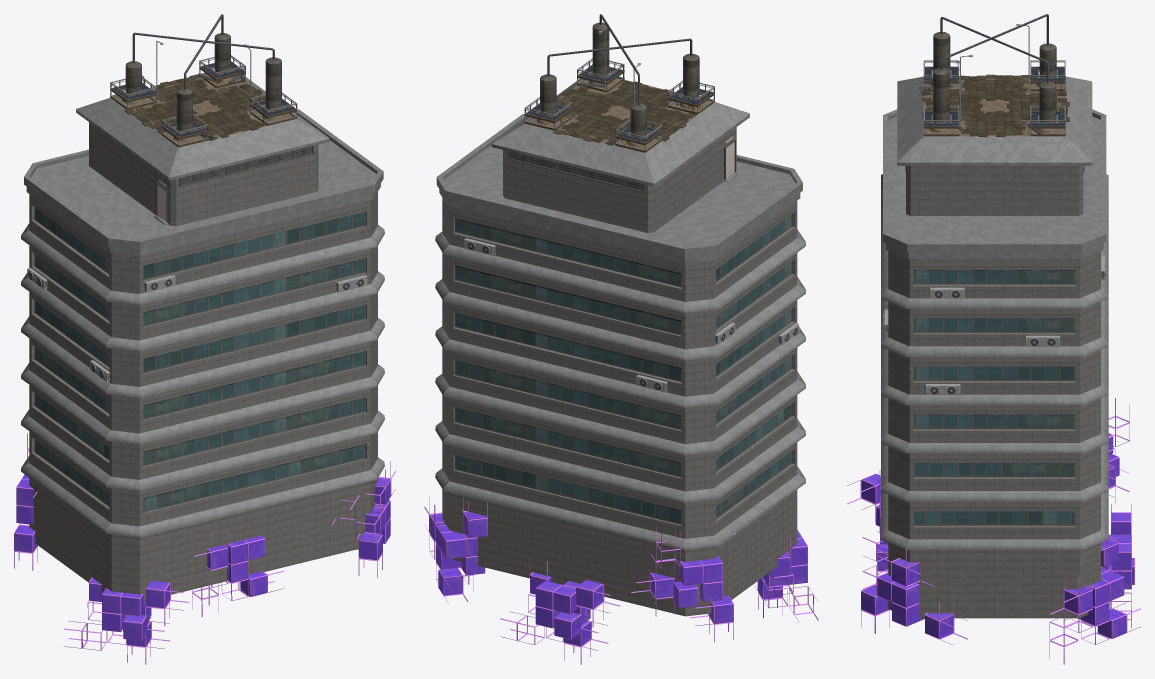
The model's file is bg04_path_c_01out.fbx.
3 views of the same model, side by side, from view 1: azimuth 30°, elevation 25°; view 2: azimuth 150°, elevation 25°; view 3: azimuth 270°, elevation 25° (orthographic). The views are drawn at different scales.
Visible parts, largest first — view 1: set_path_c_01-geom-P7, set_path_c_01-geom-P6, set_path_c_01-geom-P8, set_path_c_01-geom-P0, set_path_c_01-geom-P9, set_path_c_01-geom-P1, set_path_c_01-geom-P10, set_path_c_01-geom-P11, set_path_c_01-geom-P2, set_path_c_01-geom-P12, set_path_c_01-geom-P13, set_path_c_01-geom-P14; view 2: set_path_c_01-geom-P7, set_path_c_01-geom-P6, set_path_c_01-geom-P8, set_path_c_01-geom-P0, set_path_c_01-geom-P1, set_path_c_01-geom-P9, set_path_c_01-geom-P10, set_path_c_01-geom-P11, set_path_c_01-geom-P2, set_path_c_01-geom-P12, set_path_c_01-geom-P14, set_path_c_01-geom-P13; view 3: set_path_c_01-geom-P7, set_path_c_01-geom-P6, set_path_c_01-geom-P8, set_path_c_01-geom-P0, set_path_c_01-geom-P9, set_path_c_01-geom-P1, set_path_c_01-geom-P11, set_path_c_01-geom-P10, set_path_c_01-geom-P12, set_path_c_01-geom-P2, set_path_c_01-geom-P13.
Part boxes in pixels (x1,y1,x2,y2): set_path_c_01-geom-P7: [29, 122, 377, 601]; set_path_c_01-geom-P6: [21, 75, 384, 537]; set_path_c_01-geom-P8: [34, 208, 365, 512]; set_path_c_01-geom-P0: [14, 475, 390, 646]; set_path_c_01-geom-P9: [124, 74, 265, 140]; set_path_c_01-geom-P1: [14, 433, 395, 664]; set_path_c_01-geom-P10: [110, 55, 297, 147]; set_path_c_01-geom-P11: [125, 33, 281, 132]; set_path_c_01-geom-P2: [27, 145, 367, 381]; set_path_c_01-geom-P12: [114, 74, 293, 144]; set_path_c_01-geom-P13: [132, 14, 274, 138]; set_path_c_01-geom-P14: [180, 146, 312, 184]; set_path_c_01-geom-P7: [442, 127, 797, 616]; set_path_c_01-geom-P6: [435, 78, 805, 549]; set_path_c_01-geom-P8: [455, 214, 791, 524]; set_path_c_01-geom-P0: [429, 511, 807, 645]; set_path_c_01-geom-P1: [424, 496, 818, 664]; set_path_c_01-geom-P9: [553, 80, 696, 145]; set_path_c_01-geom-P10: [524, 58, 714, 152]; set_path_c_01-geom-P11: [540, 22, 699, 137]; set_path_c_01-geom-P2: [464, 151, 798, 392]; set_path_c_01-geom-P12: [528, 78, 710, 149]; set_path_c_01-geom-P14: [509, 151, 643, 190]; set_path_c_01-geom-P13: [539, 14, 692, 125]; set_path_c_01-geom-P7: [888, 166, 1100, 618]; set_path_c_01-geom-P6: [881, 76, 1108, 549]; set_path_c_01-geom-P8: [914, 270, 1075, 525]; set_path_c_01-geom-P0: [861, 433, 1134, 638]; set_path_c_01-geom-P9: [921, 74, 1069, 137]; set_path_c_01-geom-P1: [847, 398, 1140, 664]; set_path_c_01-geom-P11: [933, 32, 1056, 122]; set_path_c_01-geom-P10: [923, 60, 1065, 136]; set_path_c_01-geom-P12: [923, 76, 1065, 136]; set_path_c_01-geom-P2: [883, 166, 1105, 394]; set_path_c_01-geom-P13: [919, 14, 1048, 135].
Size of the model in its own units: 44.24 by 72.84 by 33.15.
